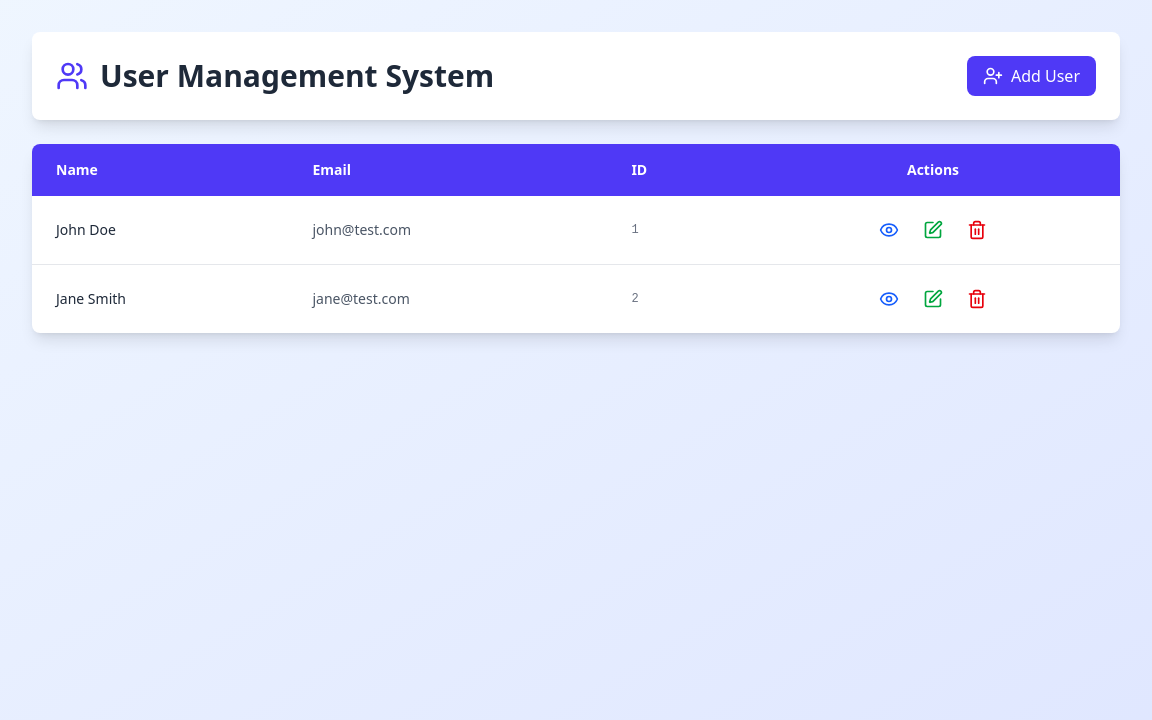
it: App Component - Integration Tests › should update user successfully
Check: the text "John Doe" is shown, box [32,196,288,264]
Note: Open edit modal
Step 1. Click the button named "Edit John Doe" → {"x": 933, "y": 230}, box [915,212,951,248]
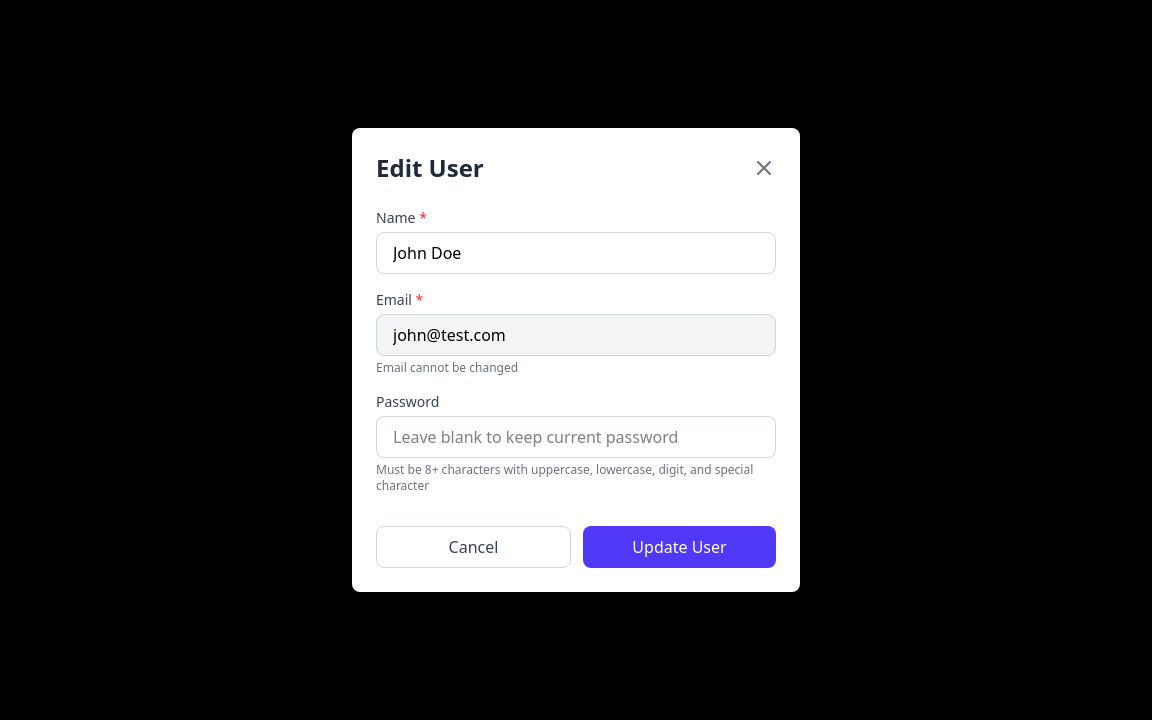
Note: Update name
Step 2. Replace the text in the field labelled "Name *" with "John Updated" → {"x": 576, "y": 253}, box [376,232,776,274]
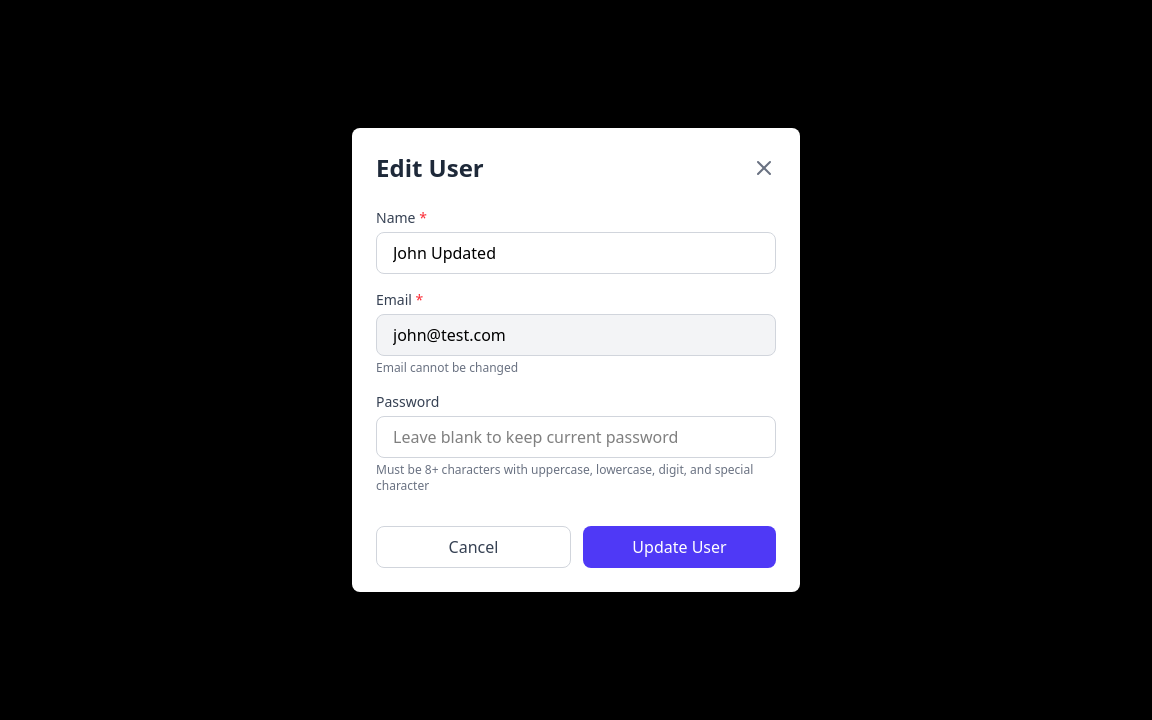
Step 3. Click the button "Update User" → {"x": 680, "y": 547}, box [583,526,776,568]
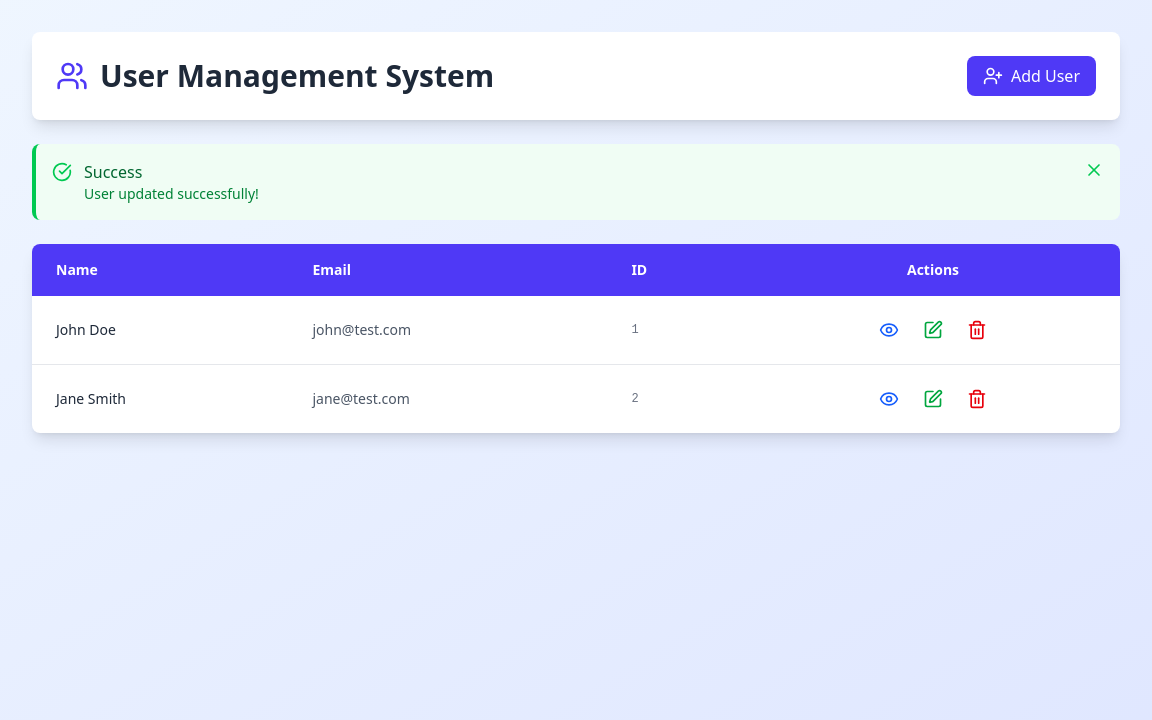
Check: the text "User updated successfully!" is shown, box [84,184,259,203]
